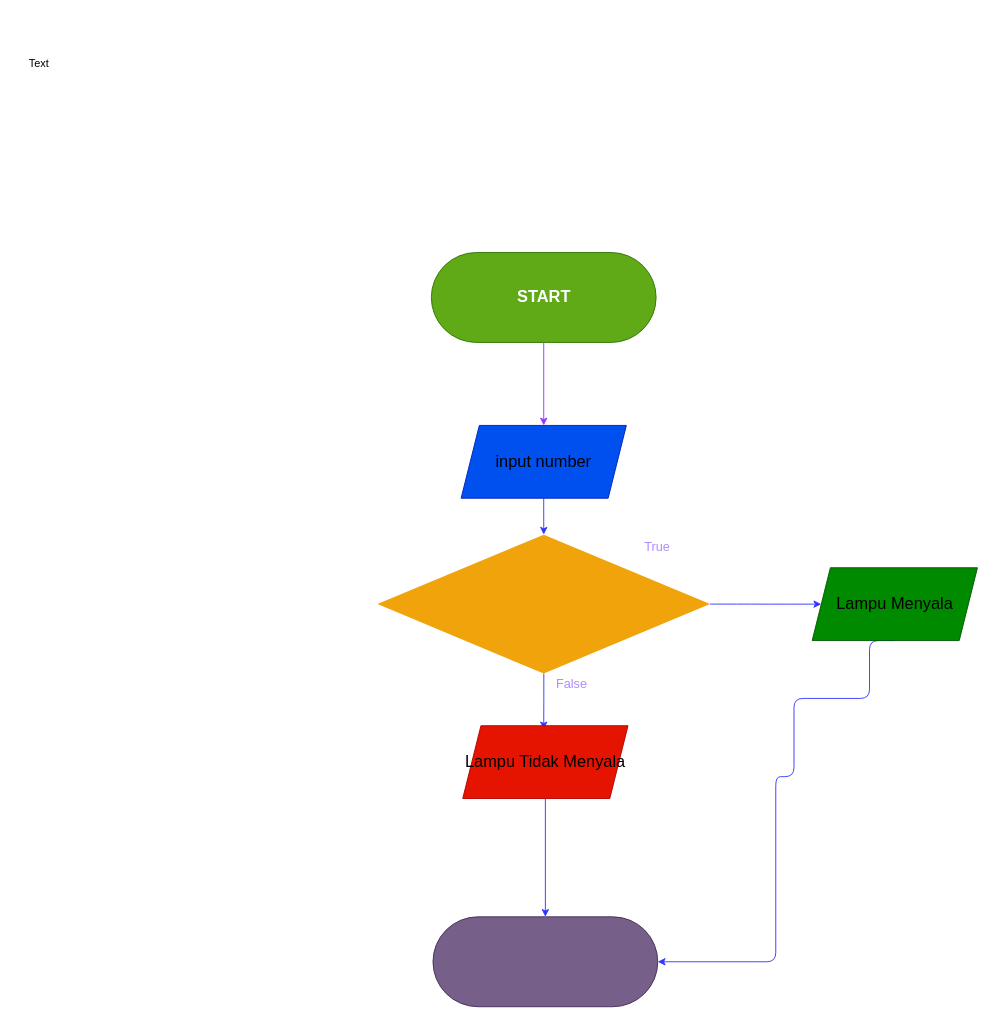
Some shapes in this 994 by 1023 pixel diagram are drawn without their labels. Each missing label, with the centre of its shape:
"END" goes at point 545,961.
"number >=1 && number % 2 === 0" goes at point 543,603.
